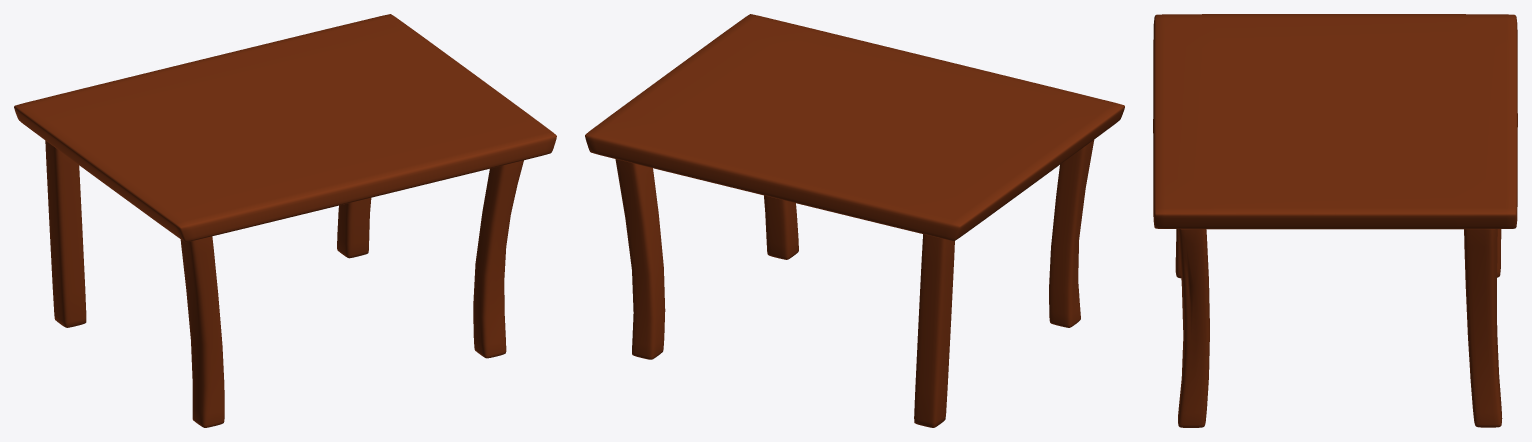
The model's file is masa.fbx.
The picture shows the model from 3 angles, left to right: view 1: azimuth 30°, elevation 25°; view 2: azimuth 150°, elevation 25°; view 3: azimuth 270°, elevation 25°; orthographic projection. The views are drawn at different scales.
Visible parts, largest first — view 1: masa; view 2: masa; view 3: masa.
Boxes of the visible parts, x1,y1,x2,y2 form: masa: [14, 14, 556, 427]; masa: [585, 14, 1124, 427]; masa: [1153, 14, 1517, 427].
Bounding box in the file's own units: 73.03 × 40.44 × 56.22.
